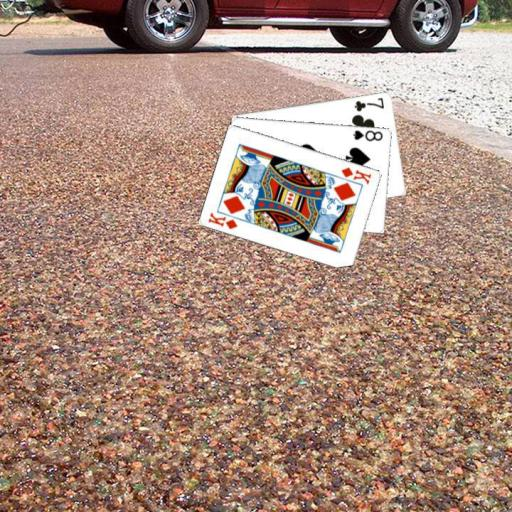7C: (352, 94, 386, 112)
8S: (350, 127, 384, 142)
KD: (338, 164, 373, 186), (205, 209, 239, 230)
